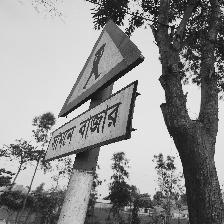Market-in-front: (45, 18, 144, 163)
